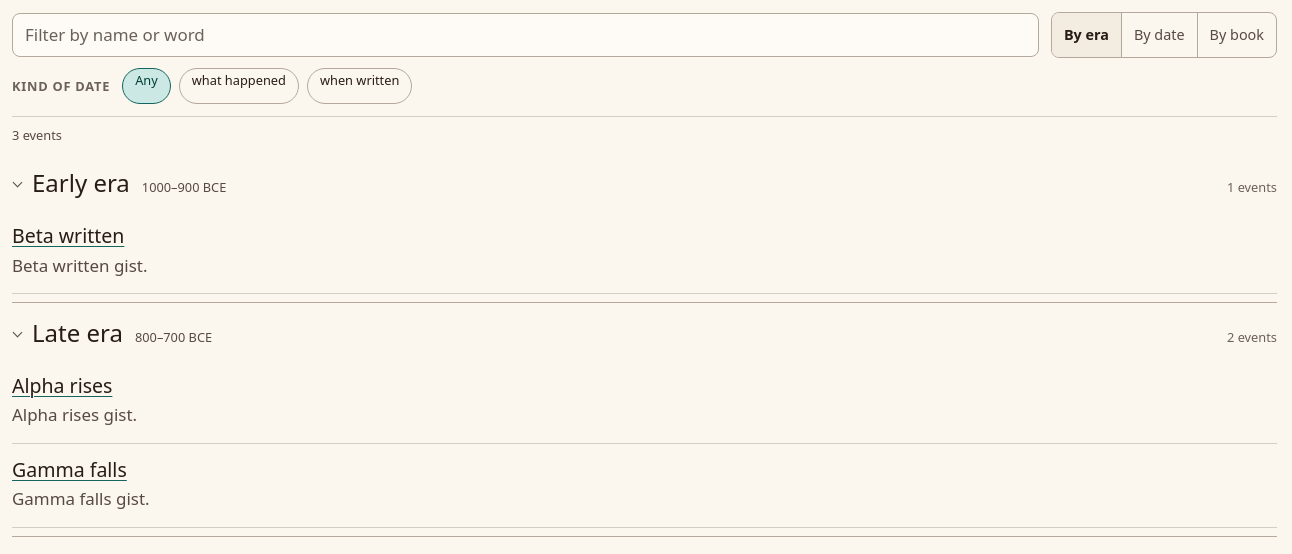
Test: CatalogueIndex › a query hides a section and updates the count
Type "beta" into the search field named "Filter events" at point(525, 35), box [12,13,1039,57]
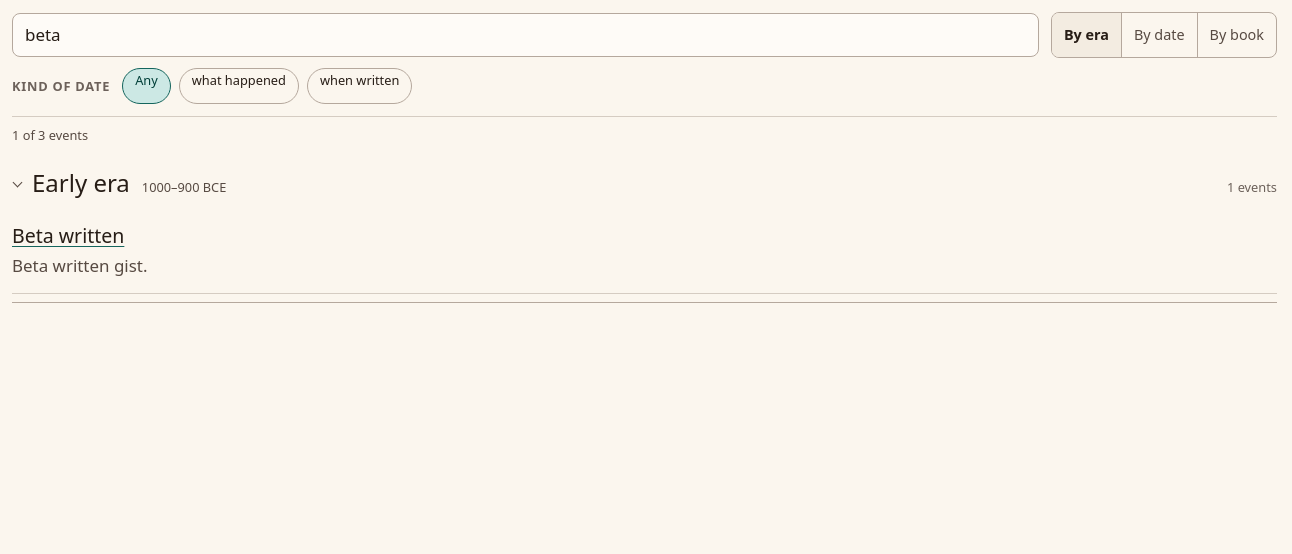
Check: the text "1 of 3 events" is shown, box [12,126,88,144]
